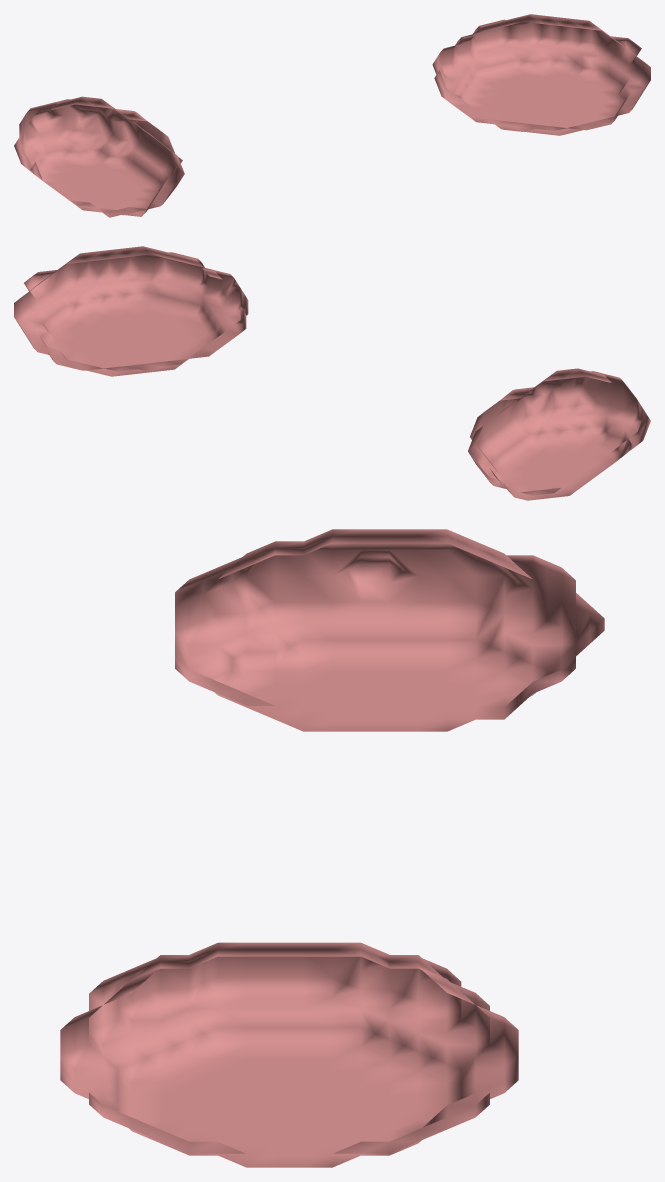
Rendered from 199508_occ.glb.
3 renders of one model, top to bottom at view 1: azimuth 30°, elevation 25°; view 2: azimuth 150°, elevation 25°; view 3: azimuth 270°, elevation 25°, orthographic. The views are drawn at different scales.
Parts seen in each view (by area): view 1: world; view 2: world; view 3: world.
Part boxes in pixels (x1,y1,x2,y2): world: (14,14,650,217); world: (14,246,650,500); world: (60,529,604,1167).
Size of the model in its own units: 4.7 by 0.5 by 1.9.
